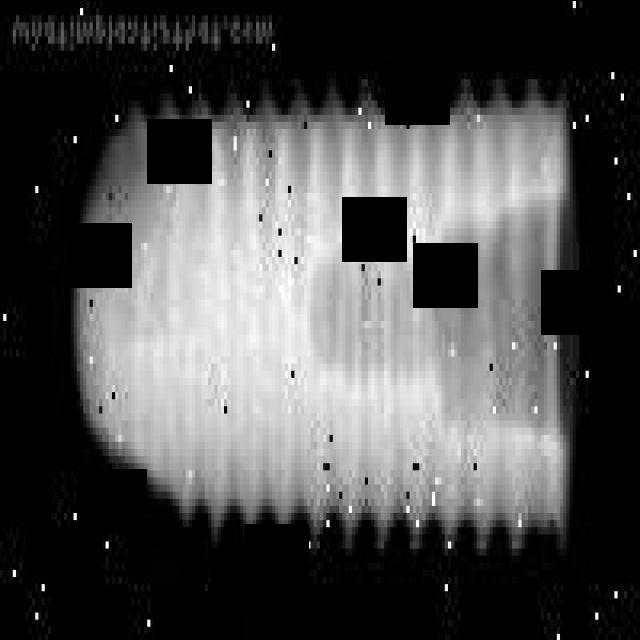OCO Biomedical Implant: (60, 85, 579, 545)
